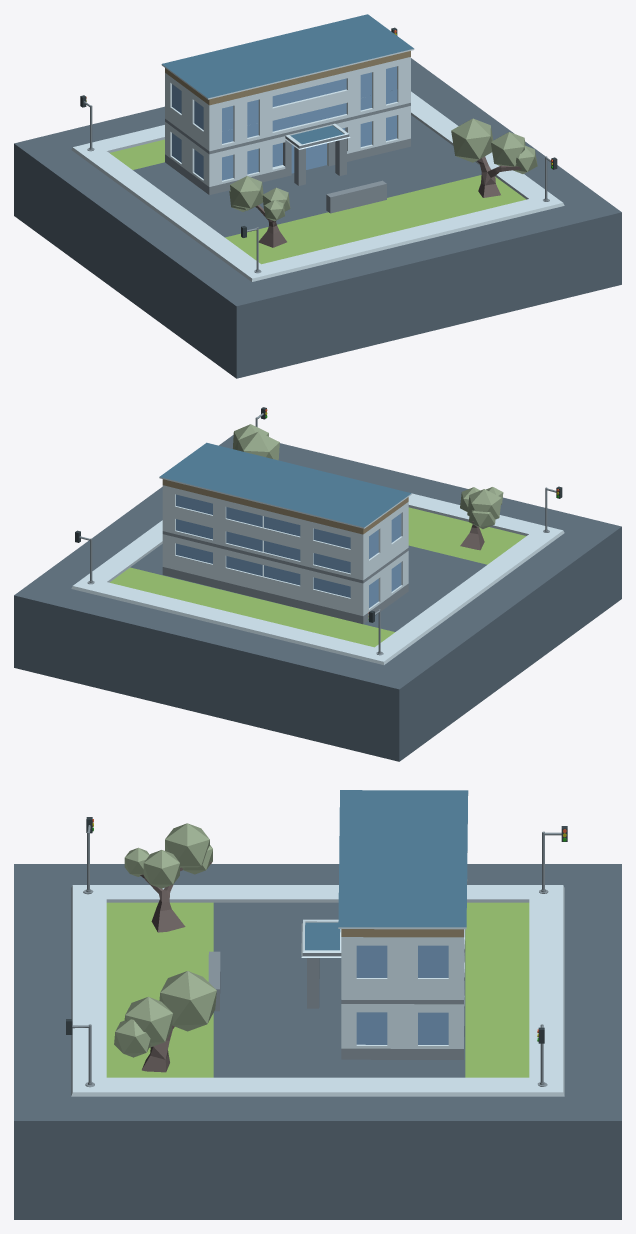
File: university.glb
The picture shows the model from 3 angles, top to bottom: view 1: azimuth 30°, elevation 25°; view 2: azimuth 150°, elevation 25°; view 3: azimuth 270°, elevation 25°; orthographic projection. The views are drawn at different scales.
Visible parts, largest first — view 1: Cube.001, Cube, Plane.002, Cube.004; view 2: Cube.001, Cube, Cube.004, Plane.002; view 3: Cube.001, Cube, Plane.002, Cube.004.
Boxes of the visible parts, x1,y1,x2,y2 form: Cube.001: (14,58,621,378); Cube: (161,14,414,213); Plane.002: (451,118,537,197); Cube.004: (229,176,290,247); Cube.001: (14,435,621,761); Cube: (159,442,411,624); Cube.004: (460,487,503,550); Plane.002: (233,424,279,460); Cube.001: (14,864,621,1219); Cube: (208,790,468,1059); Plane.002: (114,971,216,1072); Cube.004: (124,823,212,932).
Size of the model in its own units: 17.05 by 7.22 by 17.05.
